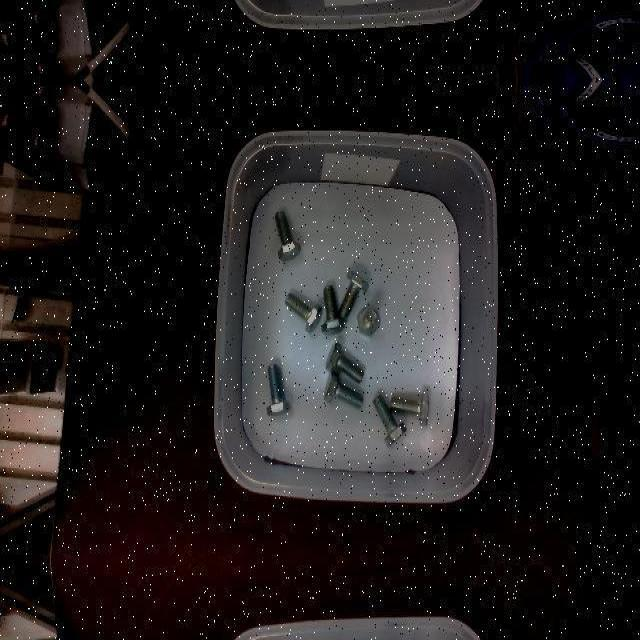screw: (373, 393, 407, 447), (324, 341, 364, 383), (284, 291, 322, 333), (338, 270, 369, 320), (323, 370, 363, 408), (274, 209, 301, 259), (390, 391, 429, 425), (266, 362, 290, 414), (322, 285, 345, 335), (356, 305, 380, 335)
